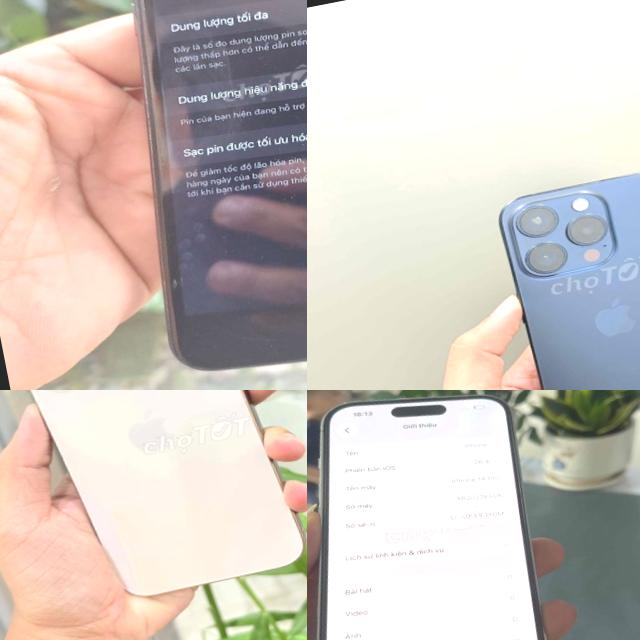gen_14: (307, 390, 576, 640)
gen_15: (460, 140, 640, 390)
gen_16: (31, 390, 304, 594)
gen_7_8: (67, 0, 307, 390)
